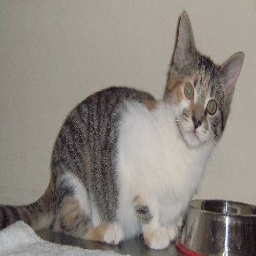cat: (0, 9, 242, 247)
